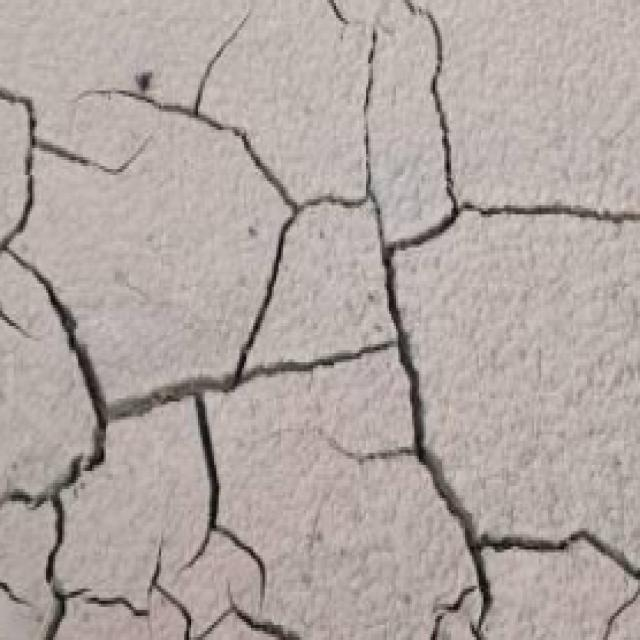network cracks: (0, 0, 639, 639), (328, 0, 358, 24)
